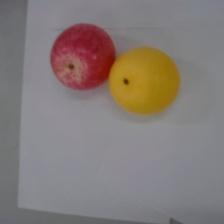red: (50, 22, 116, 91)
yellow: (108, 46, 180, 115)
